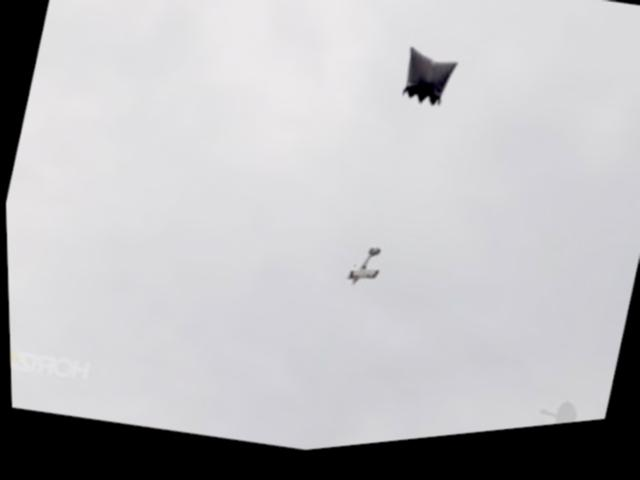uav: (340, 247, 386, 302)
